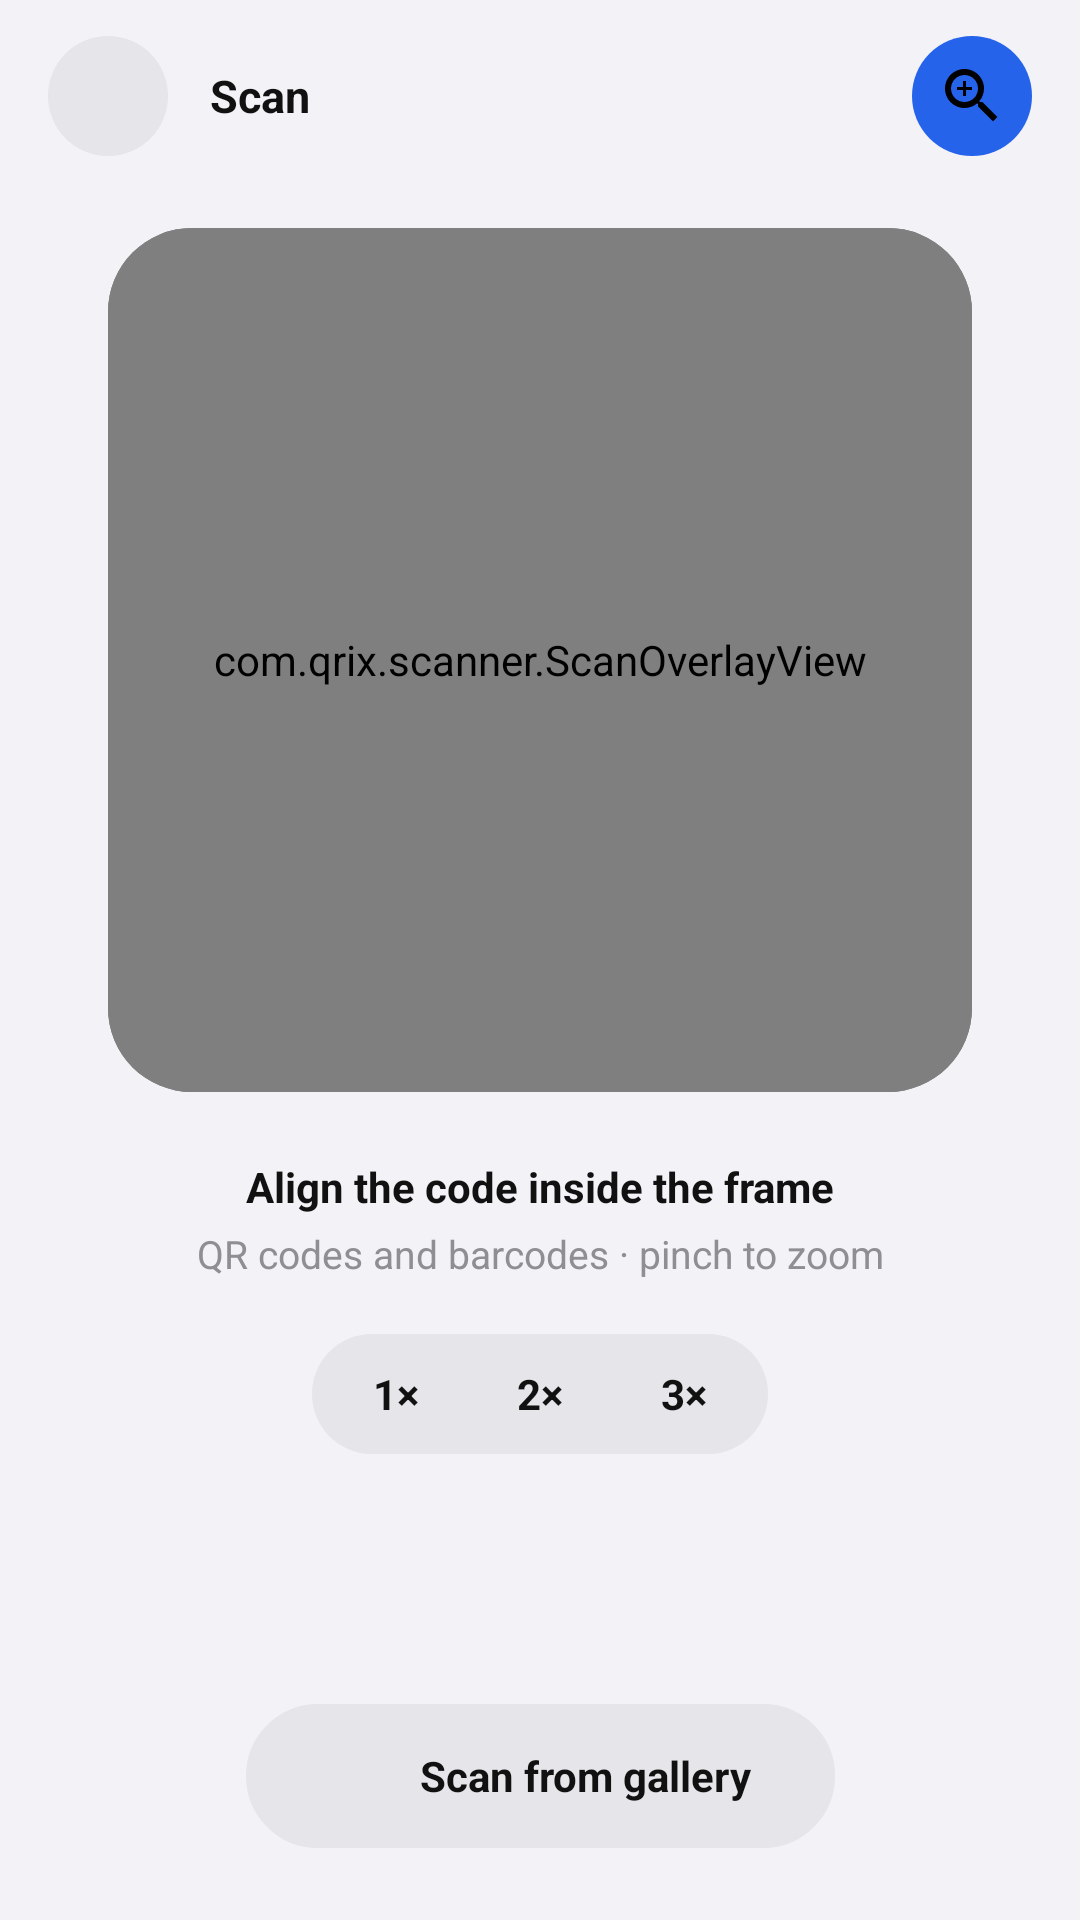

Named icons in this screenshot (1080*1920) and their bounding boxes, BBox(x1, y1, x2, y2):
Auto zoom: BBox(912, 36, 1032, 156)
